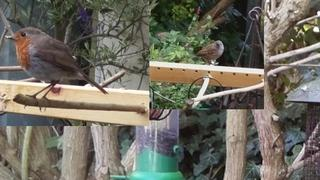dunnock: (188, 40, 224, 66)
robin: (4, 26, 109, 113)
